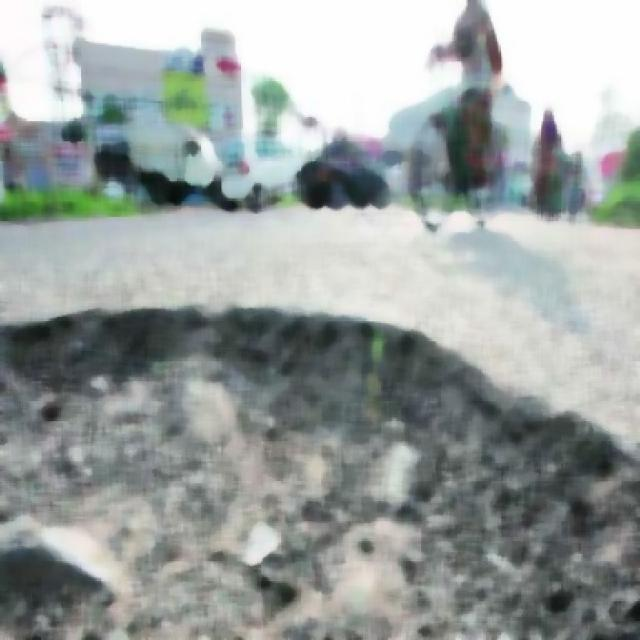Pothole: (2, 320, 573, 638)
